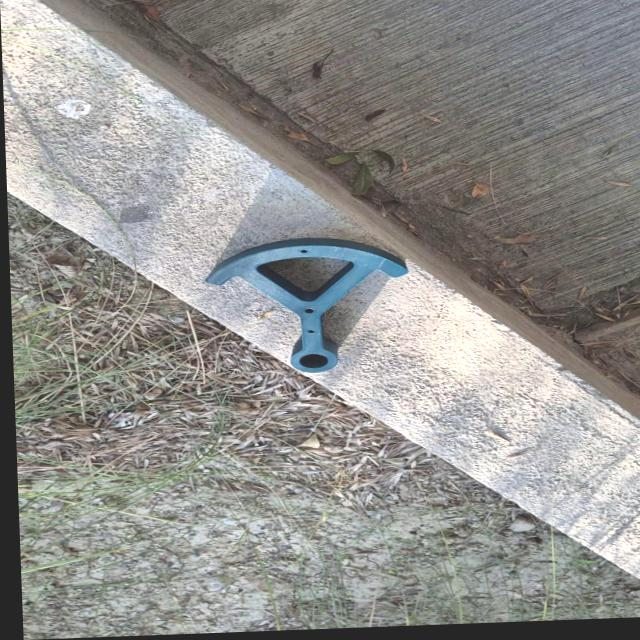haptic: (203, 233, 414, 377)
